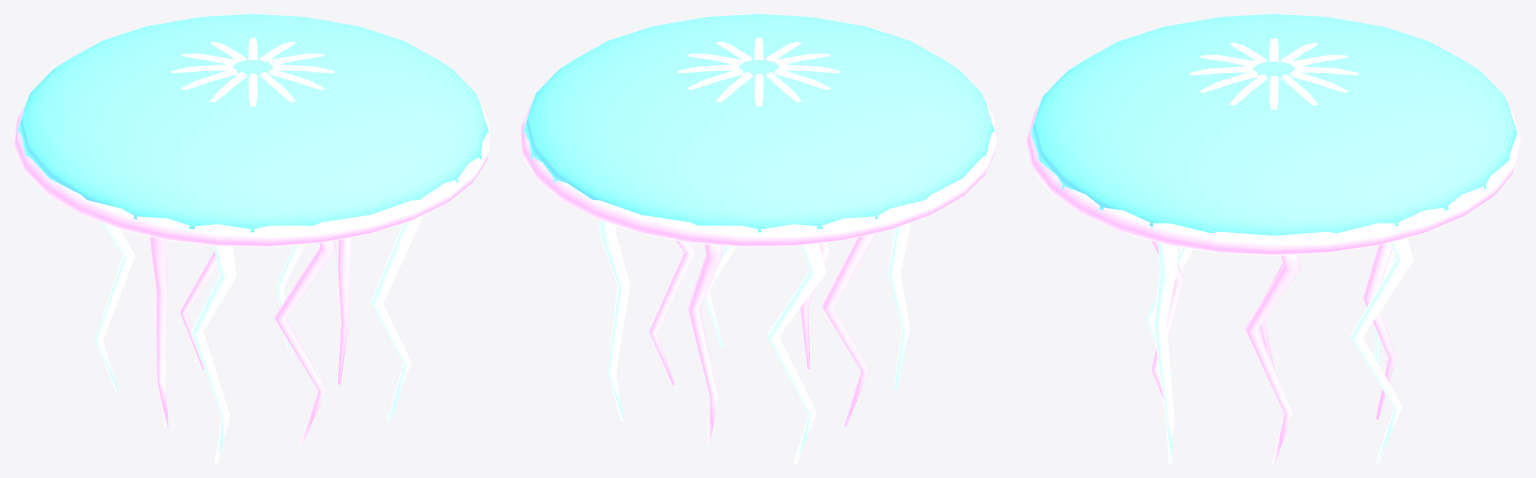
File: dream_jelly_pad.glb
3 views of the same model, side by side, from view 1: azimuth 30°, elevation 25°; view 2: azimuth 150°, elevation 25°; view 3: azimuth 270°, elevation 25° (orthographic). The views are drawn at different scales.
Parts seen in each view (by area): view 1: BellDome, BellRim, CurledTentacle_1; view 2: BellDome, BellRim, CurledTentacle_1; view 3: BellDome, BellRim, CurledTentacle_1.
Part boxes in pixels (<box>): BellDome: <box>16,14,489,232</box>; BellRim: <box>14,101,491,442</box>; CurledTentacle_1: <box>94,37,422,463</box>; BellDome: <box>522,14,995,232</box>; BellRim: <box>520,101,997,442</box>; CurledTentacle_1: <box>599,37,910,463</box>; BellDome: <box>1031,14,1516,235</box>; BellRim: <box>1026,107,1521,463</box>; CurledTentacle_1: <box>1145,38,1413,463</box>.
Bounding box in the file's own units: 4.82 × 3.78 × 4.82.
